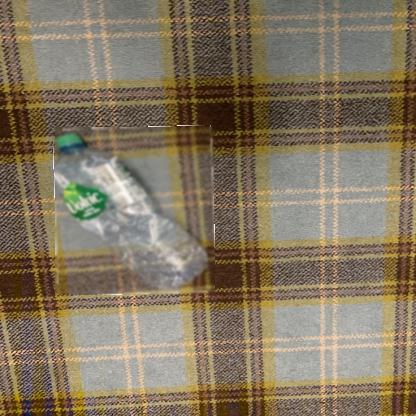plastic-bottles: (56, 128, 216, 296)
